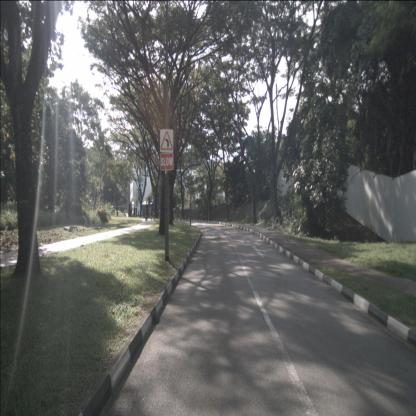human-pedestrian-adult: (145, 201, 149, 221), (150, 204, 153, 221), (135, 205, 137, 217), (134, 205, 136, 217)
vehicle-truck: (142, 202, 159, 218)
